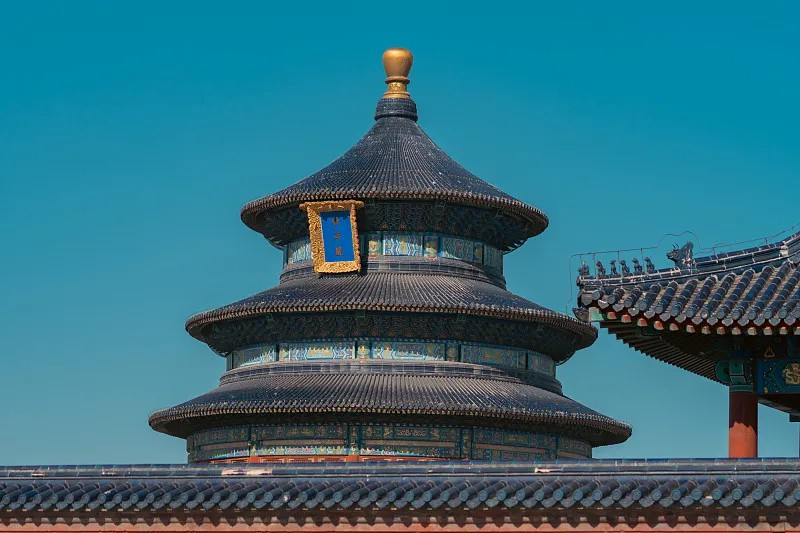Heaven: (147, 49, 633, 459)
